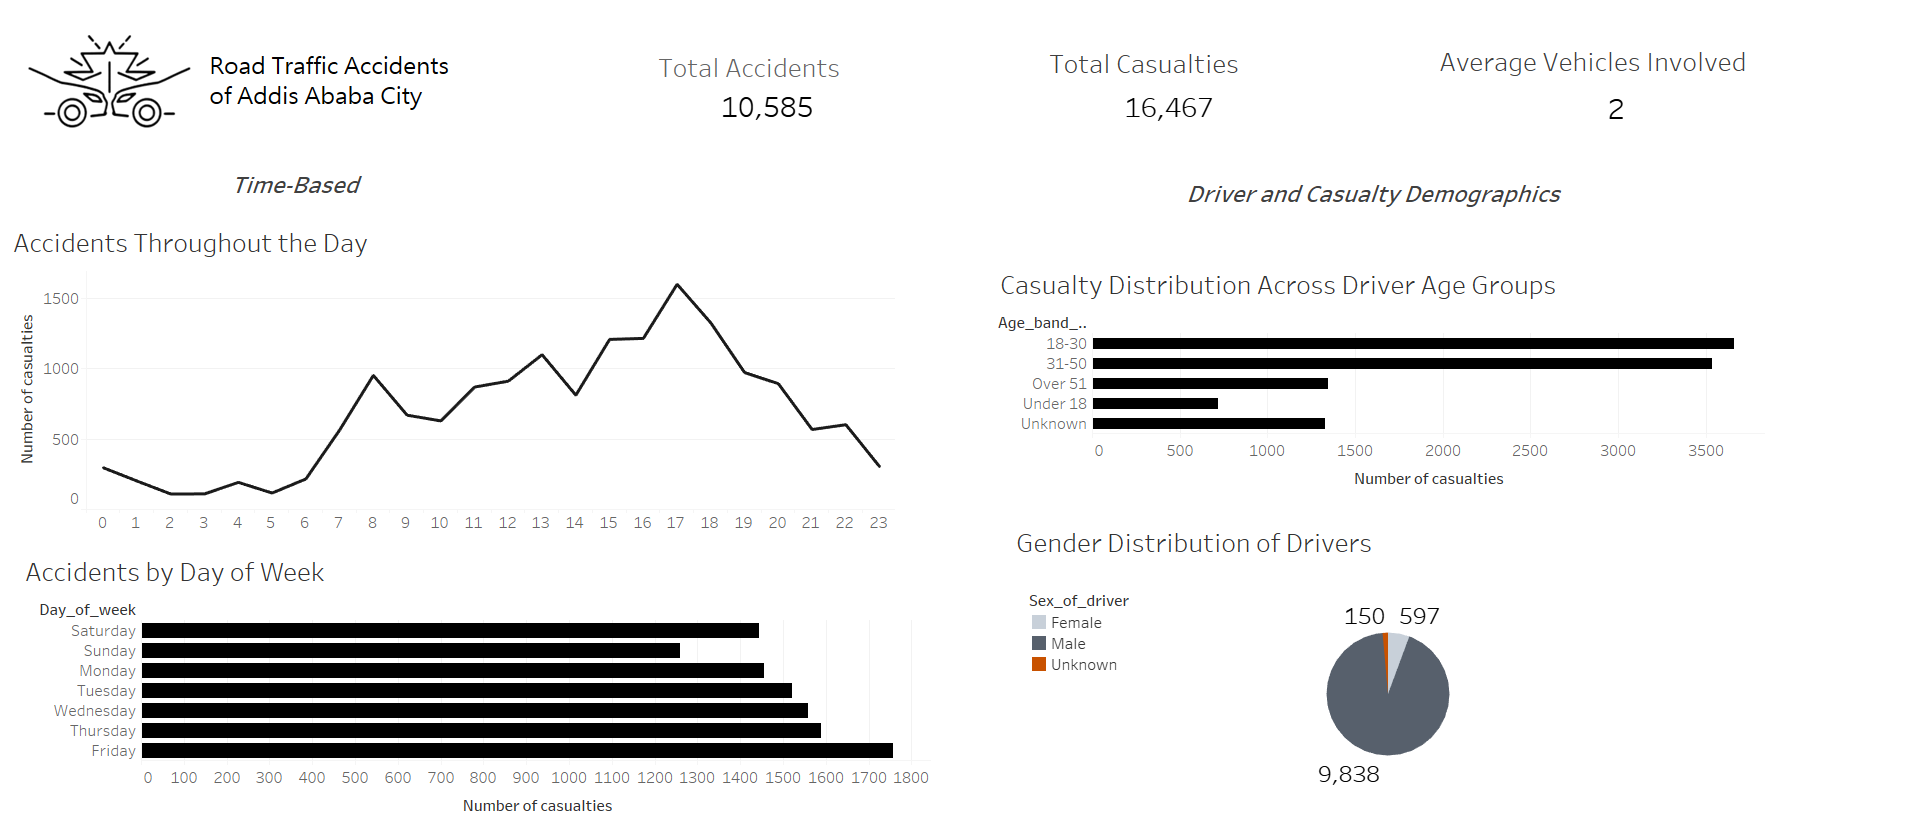

The page's visual inventory and layout, read from the dashboard file:
{"tool":"tableau","page":{"name":"Dashboard 1","canvas":[1000,1000],"units":"permille","ordinal":0},"visuals":[{"type":"text","box":[111.3,13.7,172.2,161.1]},{"type":"text","box":[757.5,48.7,184,43.7]},{"type":"text","box":[552.4,54.9,131.2,37.5]},{"type":"text","box":[347.4,56.2,110.7,43.7]},{"type":"worksheet","title":"Total Accidents ","mark":"Automatic","box":[357.4,74.9,75,81.2]},{"type":"worksheet","title":"Total Casualties","mark":"Automatic","box":[576.5,87.4,66.2,54.9]},{"type":"worksheet","title":"Average Vehicles Involved","mark":"Automatic","box":[824.2,89.9,34,56.2]},{"type":"text","box":[123,197.2,134.7,40]},{"type":"text","box":[624.5,208.5,222.6,40]},{"type":"worksheet","title":"Accidents Throughout the Day","mark":"Automatic","rows":["Number_of_casualties"],"cols":["Time"],"box":[7.6,262.2,465.7,375.8]},{"type":"worksheet","title":"Casualty Distribution Across Driver Age Groups","mark":"Automatic","rows":["Age_band_of_driver"],"cols":["Number_of_casualties"],"box":[526.1,313.4,404.2,340.8]},{"type":"worksheet","title":"Gender Distribution of Drivers","mark":"Pie","box":[534.9,621.7,394.8,354.6]},{"type":"worksheet","title":"Accidents by Day of Week","mark":"Automatic","rows":["Day_of_week"],"cols":["Number_of_casualties"],"box":[14.1,656.7,478,342.1]},{"type":"legend","title":"Gender Distribution of Drivers","param":"[federated.1hnsbpb1eh6eci17qp7rs1ai08b3].[none:Sex_of_driver:nk]","box":[543.6,705.4,82,106.1]}]}

Visuals, with their boxes on the dashboard's canvas, which has no fixed pixel size, in thousandths of its width and height (x1, y1, x2, y2). These are canvas units, not pixel positions in the 1905x837 screenshot, which may show the page scaled, cropped or inside an application window:
text: x1=111 y1=14 x2=284 y2=175
text: x1=758 y1=49 x2=942 y2=92
text: x1=552 y1=55 x2=684 y2=92
text: x1=347 y1=56 x2=458 y2=100
"Total Accidents " worksheet: x1=357 y1=75 x2=432 y2=156
"Total Casualties" worksheet: x1=576 y1=87 x2=643 y2=142
"Average Vehicles Involved" worksheet: x1=824 y1=90 x2=858 y2=146
text: x1=123 y1=197 x2=258 y2=237
text: x1=624 y1=208 x2=847 y2=248
"Accidents Throughout the Day" worksheet: x1=8 y1=262 x2=473 y2=638
"Casualty Distribution Across Driver Age Groups" worksheet: x1=526 y1=313 x2=930 y2=654
"Gender Distribution of Drivers" worksheet (Pie marks): x1=535 y1=622 x2=930 y2=976
"Accidents by Day of Week" worksheet: x1=14 y1=657 x2=492 y2=999
"Gender Distribution of Drivers" legend: x1=544 y1=705 x2=626 y2=812
